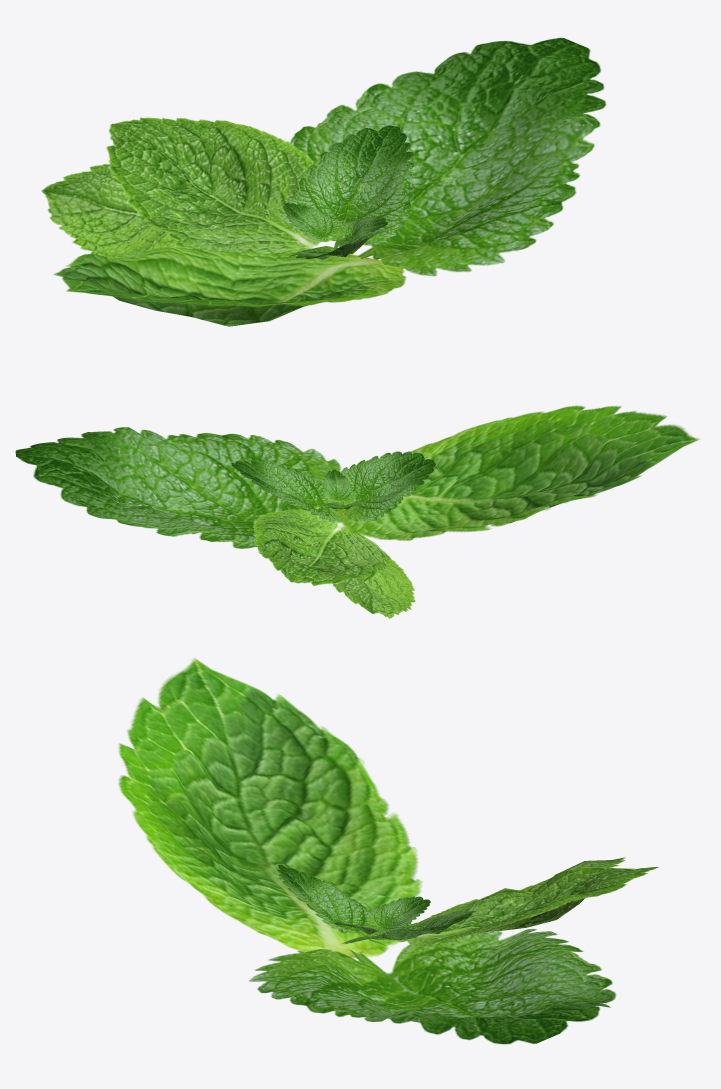
Rendered from Mint.glb.
The picture shows the model from 3 angles, top to bottom: view 1: azimuth 30°, elevation 25°; view 2: azimuth 150°, elevation 25°; view 3: azimuth 270°, elevation 25°; orthographic projection. The views are drawn at different scales.
Parts seen in each view (by area): view 1: myata2_2, myata, myata3, myata2, myata2_4, myata2_1; view 2: myata3, myata2_2, myata, myata2_1, myata2, myata2_4; view 3: myata3, myata2_2, myata, myata2_1, myata2_4, myata2.
Boxes of the visible parts, x1=… form: myata2_2: x1=285, y1=37, x2=606, y2=276; myata: x1=41, y1=117, x2=342, y2=257; myata3: x1=53, y1=246, x2=406, y2=326; myata2: x1=282, y1=125, x2=414, y2=250; myata2_4: x1=283, y1=203, x2=387, y2=246; myata2_1: x1=288, y1=228, x2=387, y2=260; myata3: x1=337, y1=405, x2=699, y2=540; myata2_2: x1=15, y1=427, x2=345, y2=553; myata: x1=253, y1=506, x2=415, y2=618; myata2_1: x1=335, y1=451, x2=435, y2=522; myata2: x1=231, y1=460, x2=351, y2=522; myata2_4: x1=322, y1=469, x2=365, y2=509; myata3: x1=117, y1=657, x2=422, y2=958; myata2_2: x1=248, y1=929, x2=616, y2=1044; myata: x1=396, y1=857, x2=658, y2=946; myata2_1: x1=276, y1=865, x2=385, y2=945; myata2_4: x1=334, y1=896, x2=430, y2=935; myata2: x1=341, y1=910, x2=476, y2=943.
Size of the model in its own units: 9.86 by 2.06 by 7.92.
Materials: 3 (3 with a texture image).
